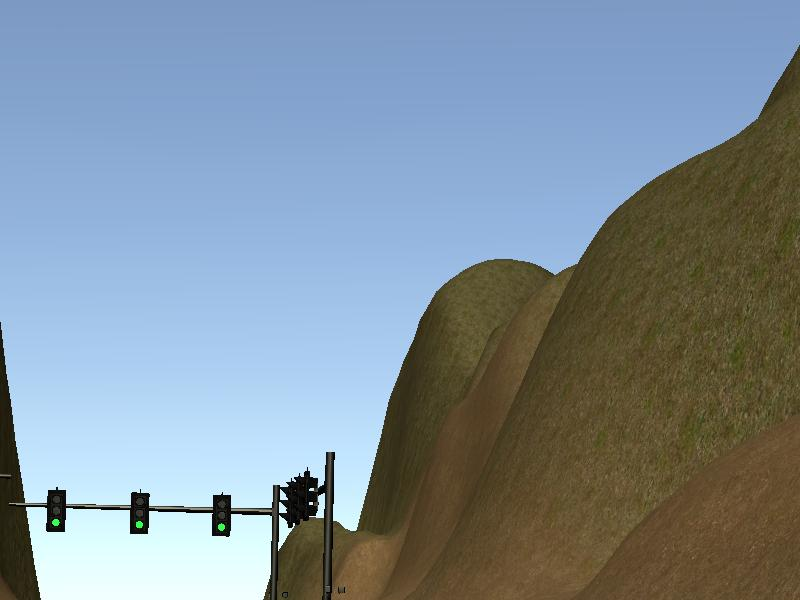Green: (212, 494, 230, 537), (131, 491, 148, 534), (47, 491, 64, 531)
